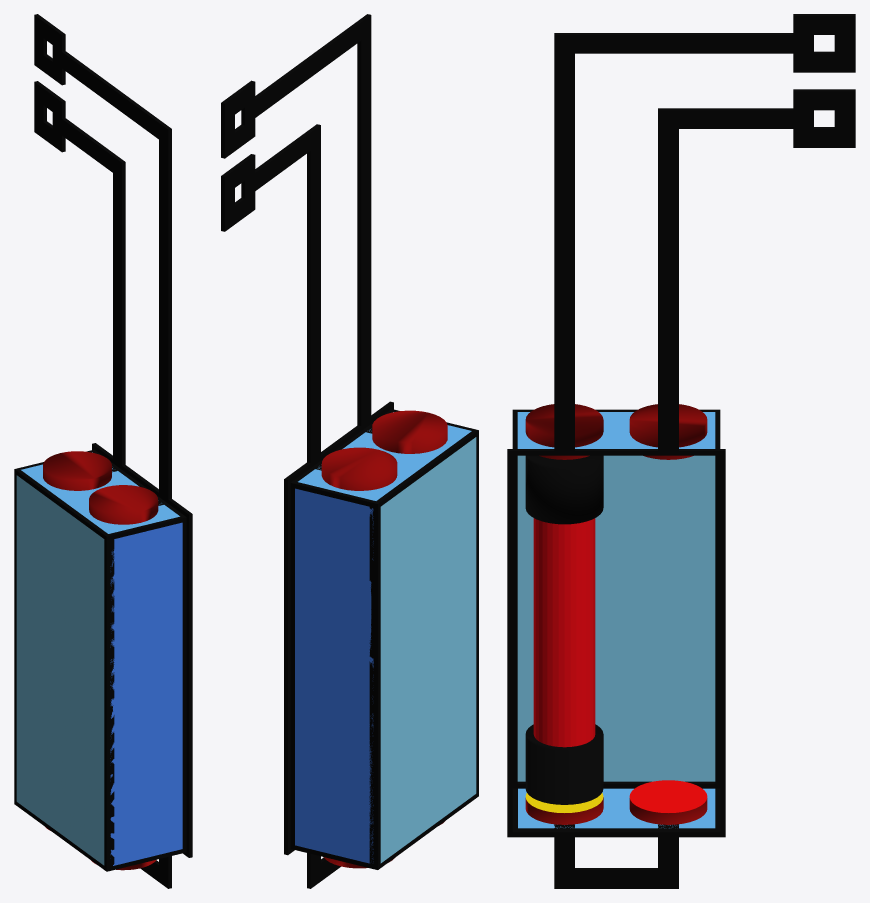
Rendered from 1Fuse.fbx.
3 renders of one model, left to right at view 1: azimuth 30°, elevation 25°; view 2: azimuth 150°, elevation 25°; view 3: azimuth 270°, elevation 25°, orthographic. The views are drawn at different scales.
Visible parts, largest first — view 1: 3.BODY.003; view 2: 3.BODY.003; view 3: 3.BODY.003.
Part boxes in pixels (x1=…): 3.BODY.003: x1=14, y1=14, x2=192, y2=888; 3.BODY.003: x1=221, y1=14, x2=478, y2=888; 3.BODY.003: x1=507, y1=14, x2=855, y2=888.
Bounding box in the file's own units: 10.45 × 92.68 × 33.5.
